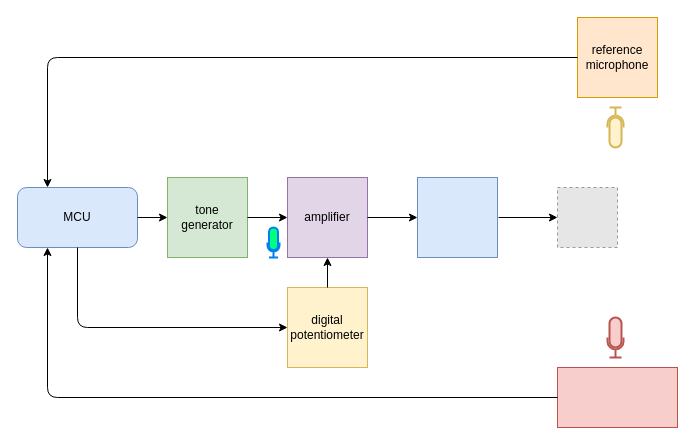
This 695x445 diagram has some shape labels left out. Grey dashed boxes stand in for pictures. The centre of each missing label's shape, as x and y in pixels:
"speaker" goes at (457,217).
"test microphone" goes at (617,397).
